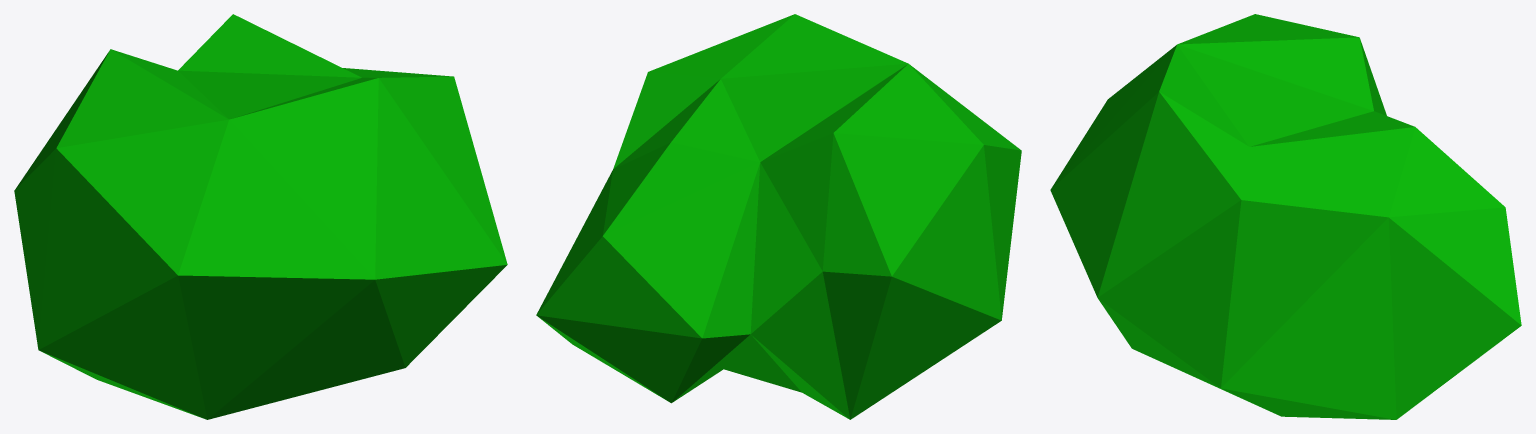
The model's file is bush_small.fbx.
The picture shows the model from 3 angles, left to right: view 1: azimuth 30°, elevation 25°; view 2: azimuth 150°, elevation 25°; view 3: azimuth 270°, elevation 25°; orthographic projection. The views are drawn at different scales.
Visible parts, largest first — view 1: Icosphere.036; view 2: Icosphere.036; view 3: Icosphere.036.
Boxes of the visible parts, x1,y1,x2,y2 form: Icosphere.036: (14, 14, 507, 419); Icosphere.036: (536, 14, 1021, 419); Icosphere.036: (1050, 14, 1521, 419).
Bounding box in the file's own units: 200 × 155 × 207.
